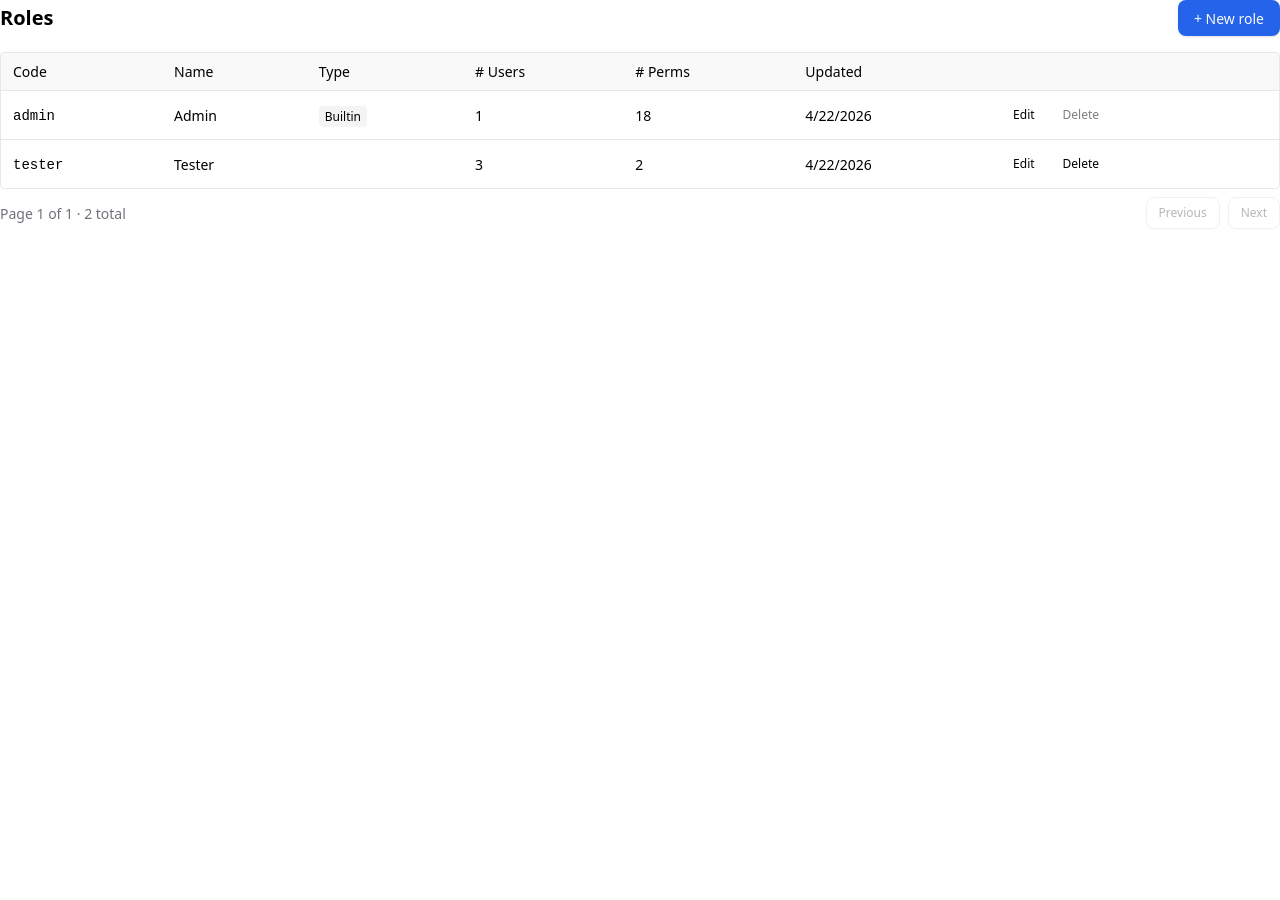
it: RoleListPage › opens delete dialog with cascade count on tester click
The width and height of the screenshot is (1280, 900).
Expected: the text "tester" is shown, [13,156,63,172]
Click the 2nd button "Delete" at [1081, 164], box [1051,148,1111,180]
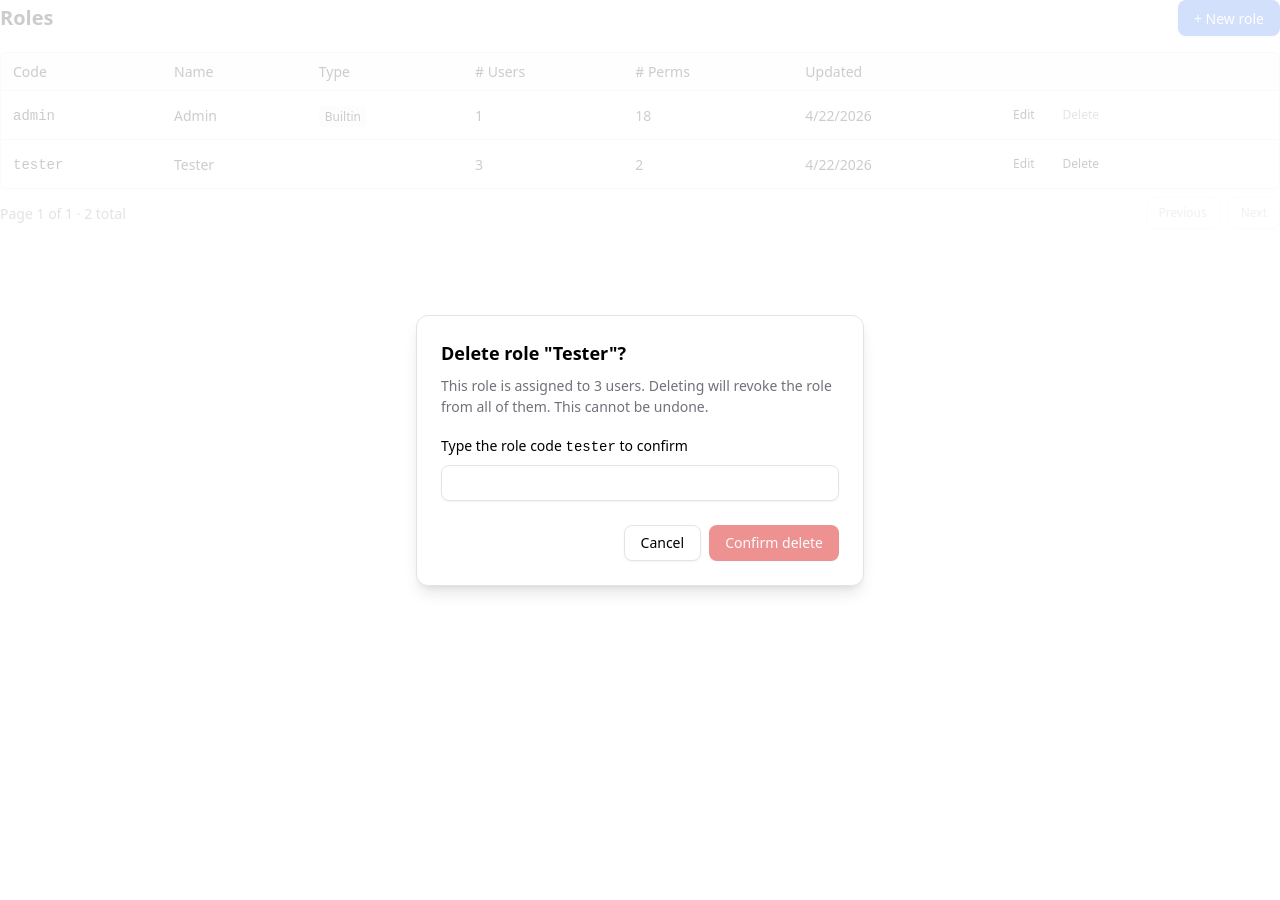
Result: the text "assigned to 3 users" is shown at [441,374,839,416]
